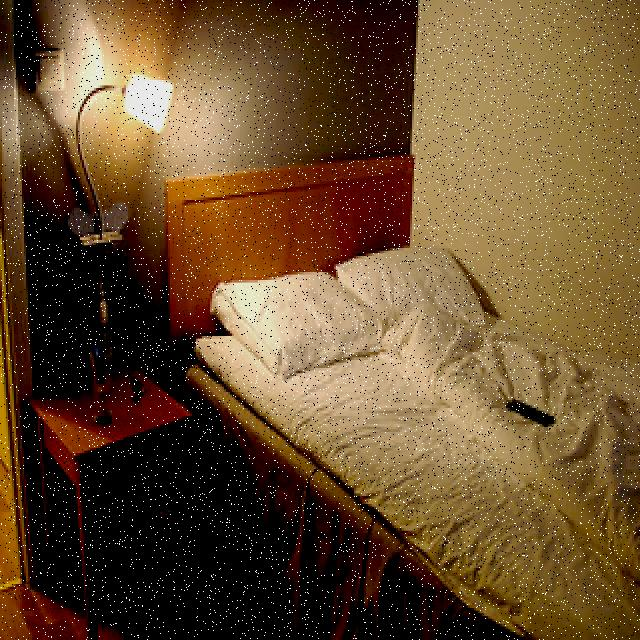bed: (162, 175, 640, 640)
